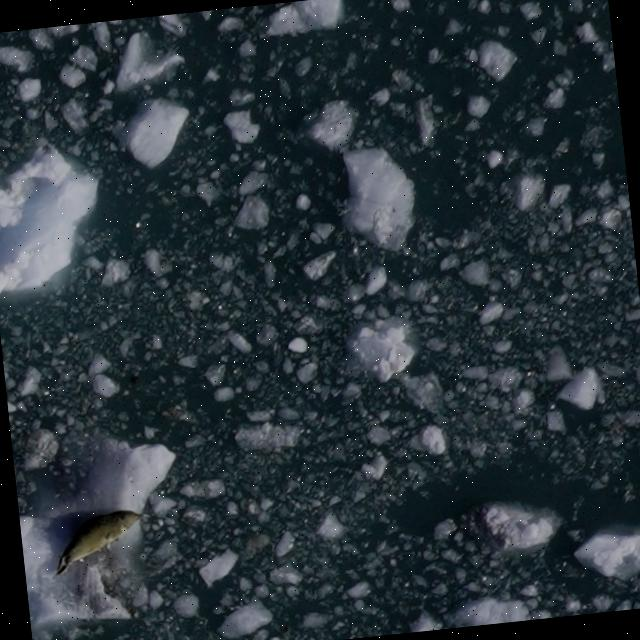seal: (43, 505, 153, 582)
